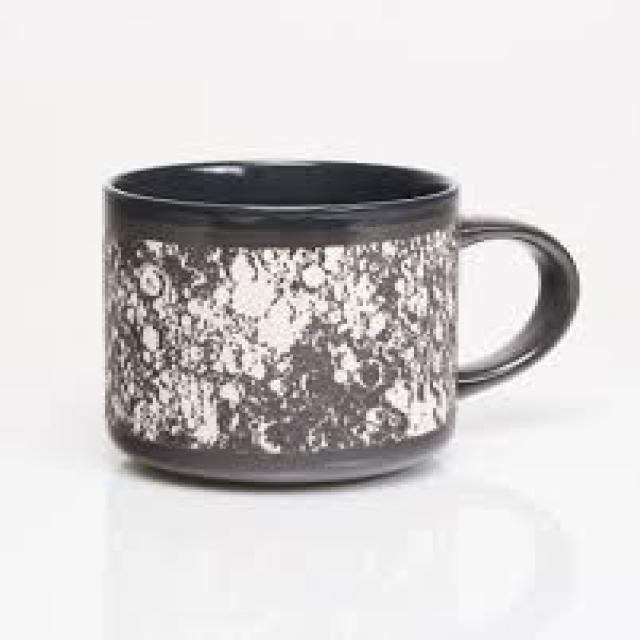taza: (102, 158, 581, 488)
